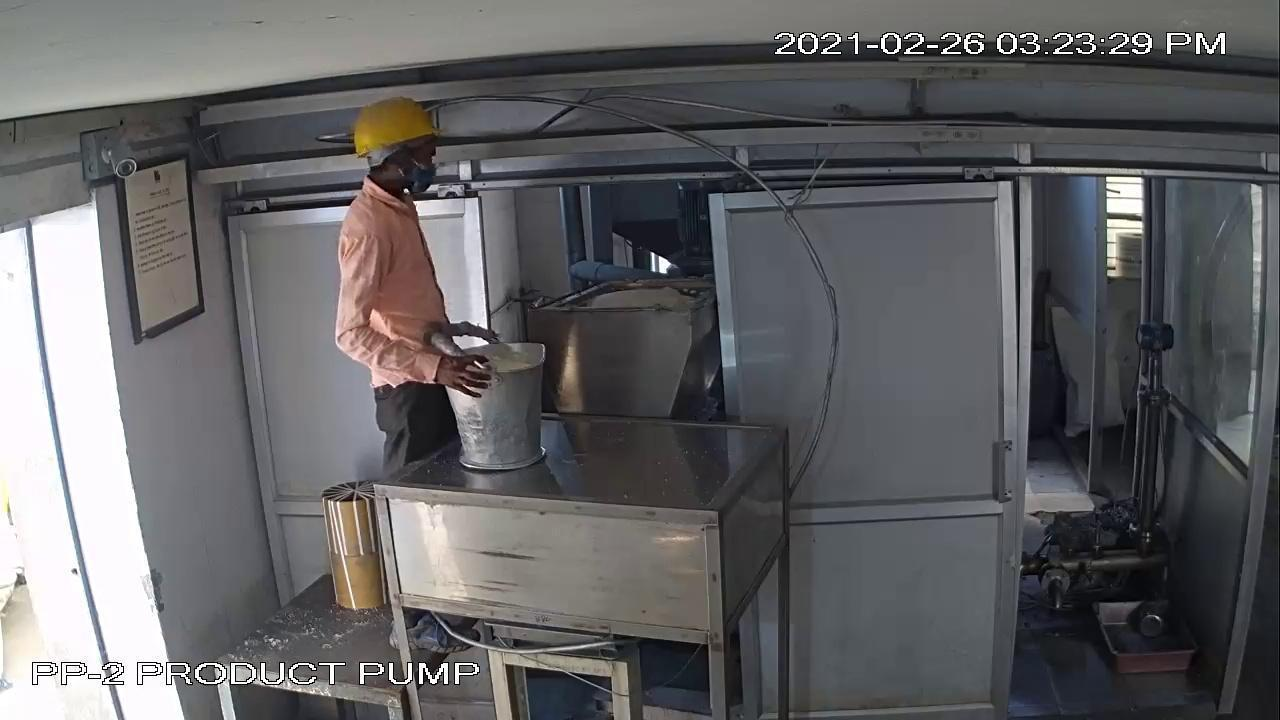helmet: (347, 87, 454, 180)
